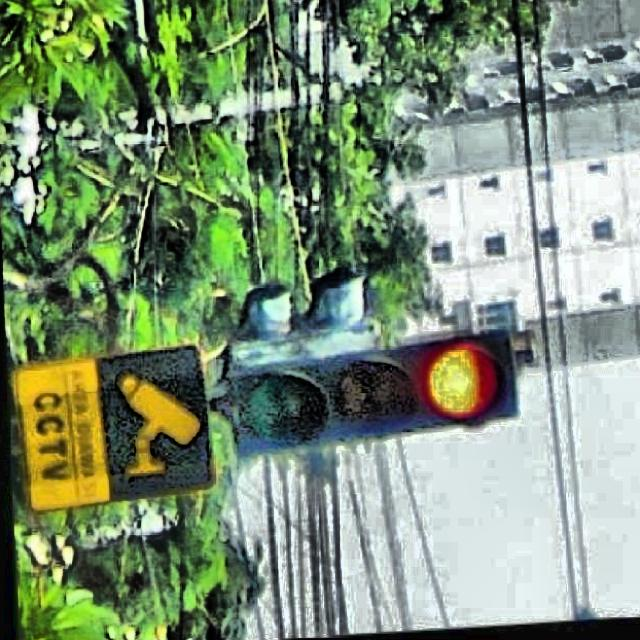red: (241, 327, 517, 448)
